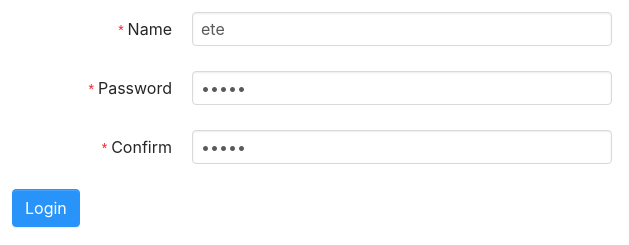
Scenario: testing Form component › submit form with invliad values should show the error message
Clear the field showing "ete" at [402, 29], box x1=192 y1=12 x2=612 y2=46
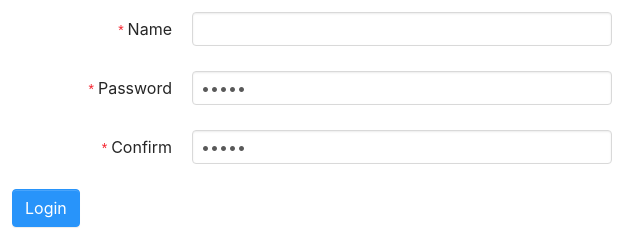
Clear the password field showing "12345" next to "Password" at [402, 88], box x1=192 y1=71 x2=612 y2=105
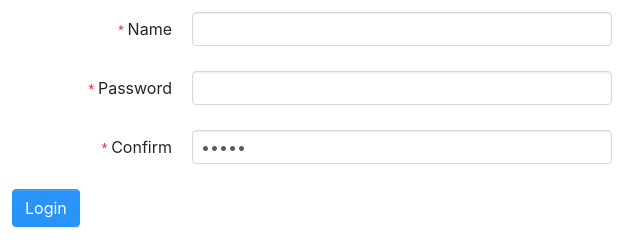
Click the button "Login".
click(46, 208)  # box x1=12 y1=189 x2=80 y2=227
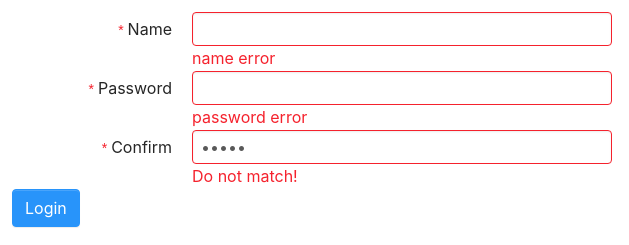
Check: the text "name error" is shown, box x1=192 y1=48 x2=275 y2=68
Check: the text "password error" is shown, box x1=192 y1=107 x2=307 y2=127
